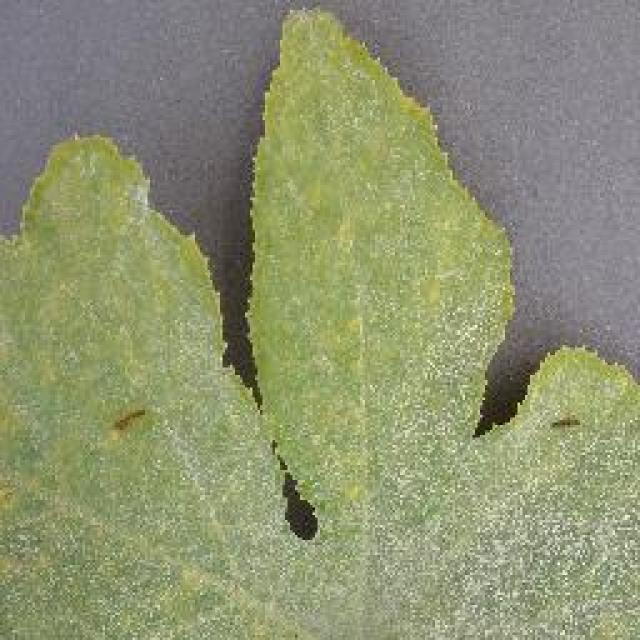Squ_Powdery_mildew: (60, 181, 594, 612)
